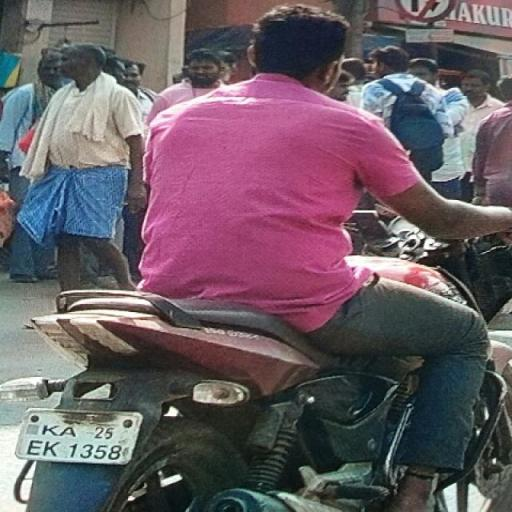bike: (7, 2, 512, 512)
numberplate: (20, 399, 139, 469)
withouthelmet: (252, 0, 347, 88)
